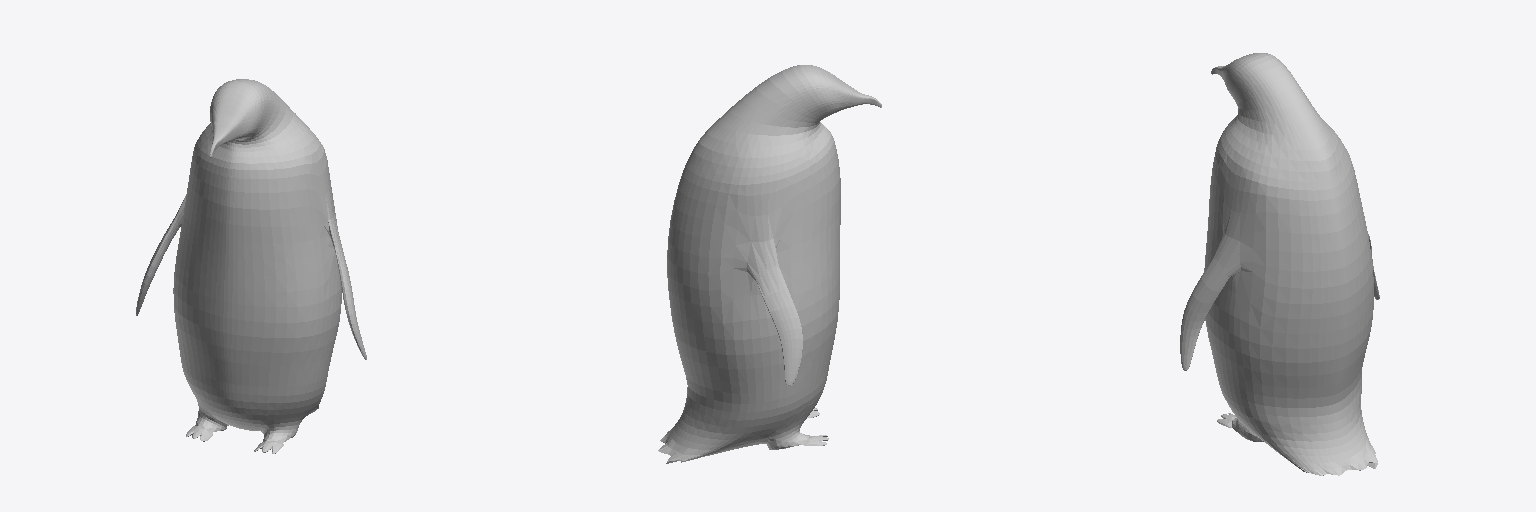
Rendered from penguin9.obj.
3 views of the same model, side by side, from view 1: azimuth 30°, elevation 25°; view 2: azimuth 150°, elevation 25°; view 3: azimuth 270°, elevation 25° (orthographic).
Parts seen in each view (by area): view 1: Penguin_Cylinder.007; view 2: Penguin_Cylinder.007; view 3: Penguin_Cylinder.007.
Boxes of the visible parts, x1=… form: Penguin_Cylinder.007: x1=136, y1=79, x2=366, y2=453; Penguin_Cylinder.007: x1=658, y1=65, x2=881, y2=463; Penguin_Cylinder.007: x1=1180, y1=53, x2=1379, y2=475.
Bounding box in the file's own units: 93.98 × 209 × 101.